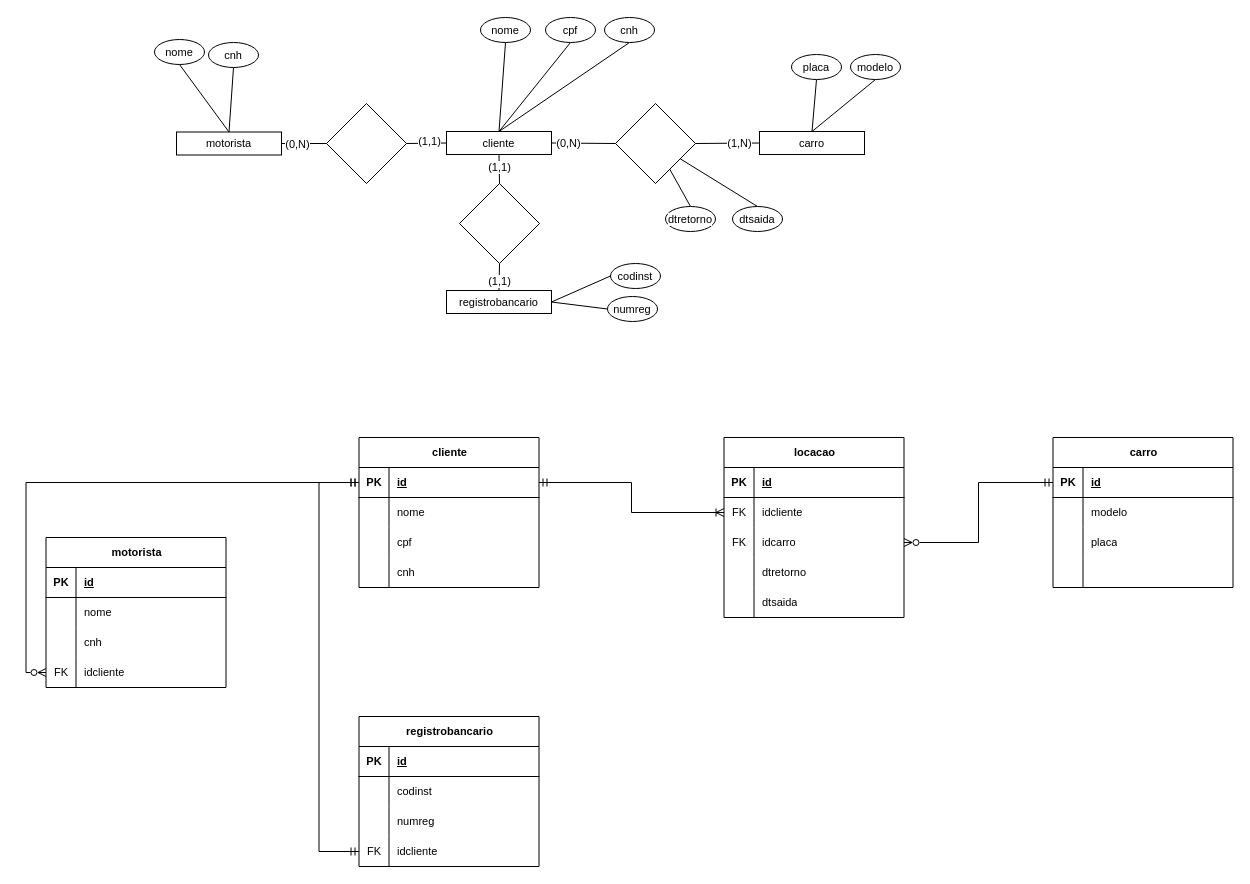
This 1250x884 diagram has some shape labels left out. Here are the shapes that lost their labels. From the top down, the centre of each, then its label:
pixel 366 143: vincula
pixel 655 143: aluga
pixel 499 223: possui
